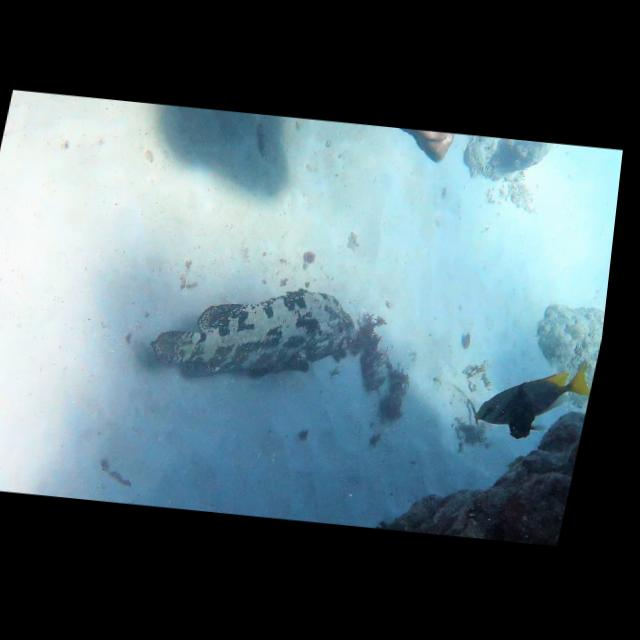Groupers: (145, 273, 366, 389)
